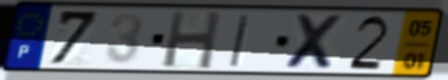2: (347, 14, 393, 72)
3: (104, 11, 149, 67)
7: (46, 9, 102, 67)
H: (160, 9, 224, 71)
I: (226, 13, 254, 69)
X: (282, 12, 347, 73)
